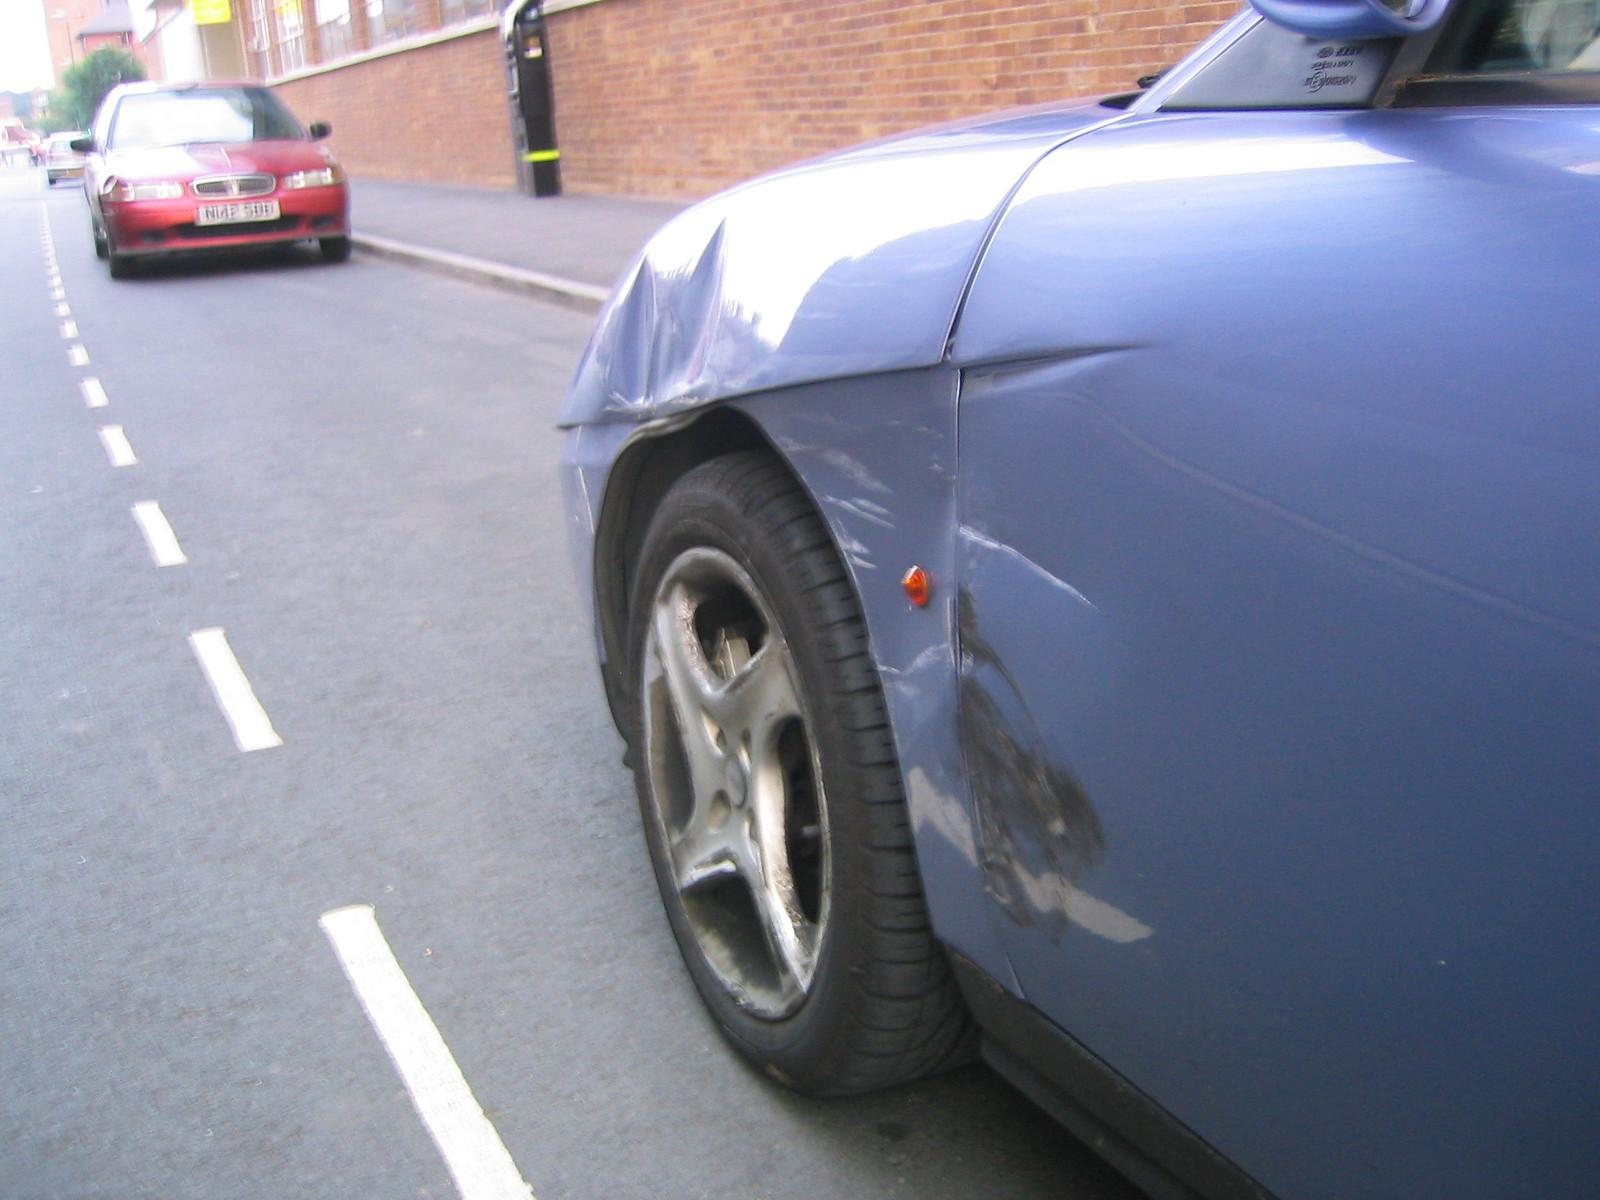fender-dent: (547, 219, 1019, 512)
